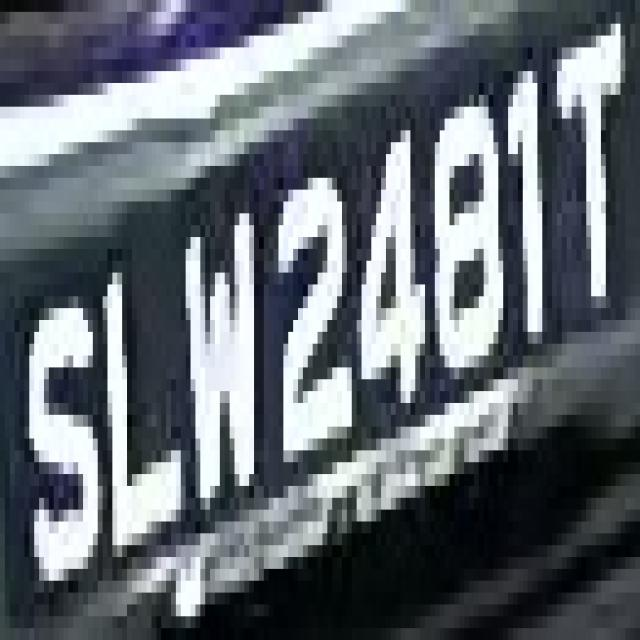1: (498, 36, 547, 379)
2: (274, 142, 362, 498)
4: (332, 83, 425, 415)
8: (425, 59, 508, 391)
L: (88, 249, 190, 557)
S: (9, 272, 102, 580)
T: (542, 0, 640, 332)
W: (176, 178, 264, 569)
